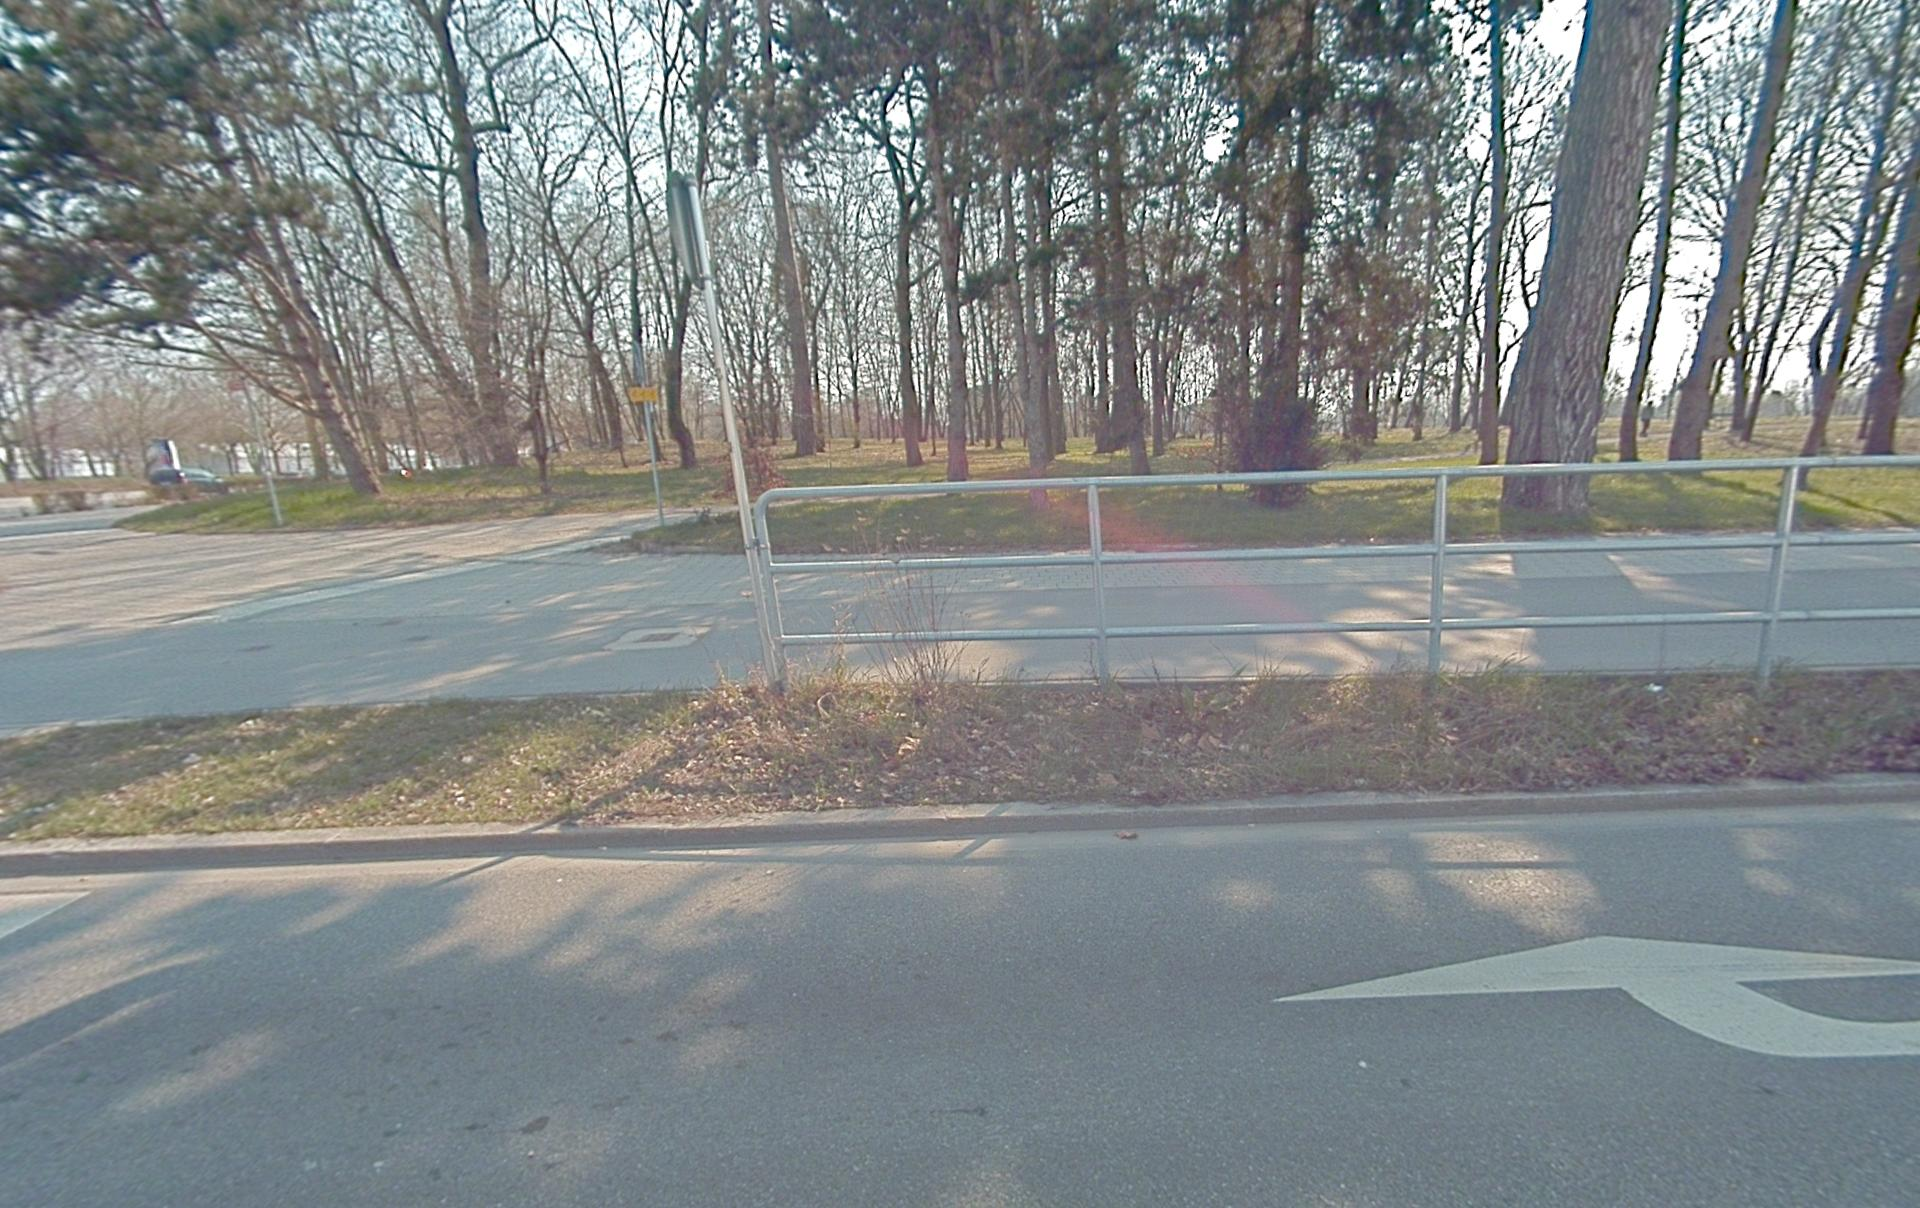car: (149, 466, 223, 488)
traffic sign: (627, 386, 658, 404)
